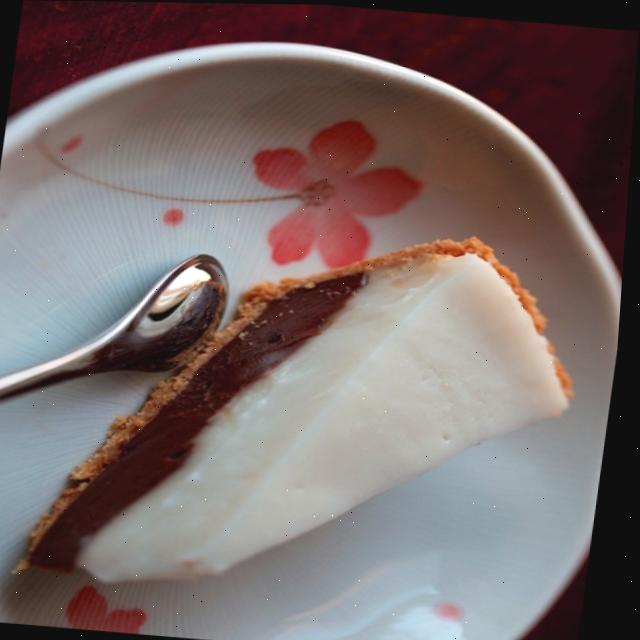蛋糕甜品: (0, 100, 621, 640)
